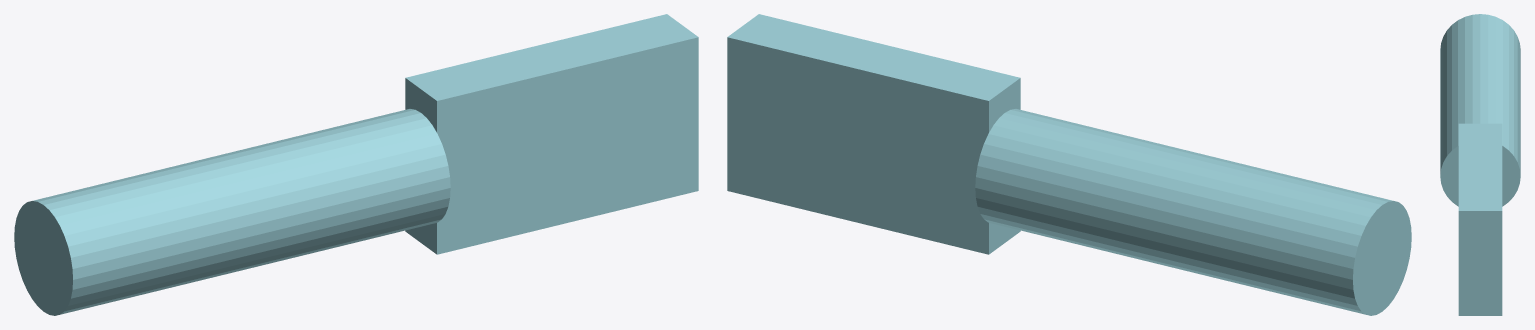
Rendered from cylinder_spatula_v6008.obj.
3 renders of one model, left to right at view 1: azimuth 30°, elevation 25°; view 2: azimuth 150°, elevation 25°; view 3: azimuth 270°, elevation 25°, orthographic. The views are drawn at different scales.
Bounding box in the file's own units: 0.2982 × 0.0685 × 0.0476.
Materials: 1 (1 with a texture image).
